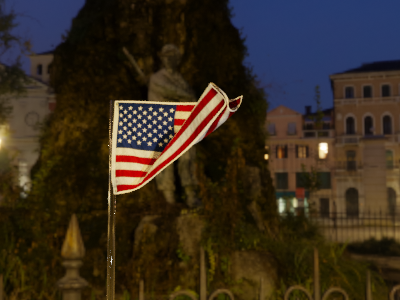America flag: (111, 80, 245, 193)
